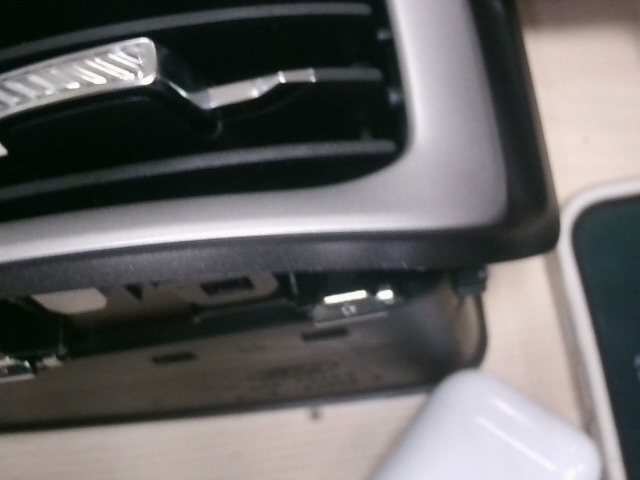NG: (377, 249, 421, 281)
